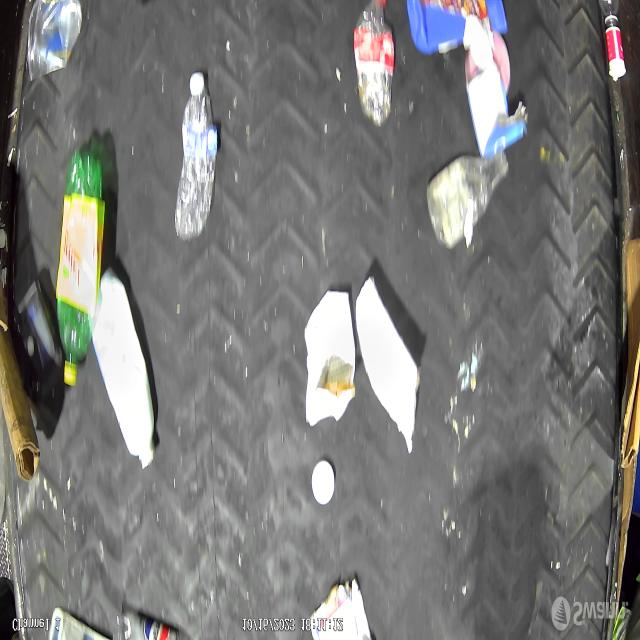plastic_bottle: (56, 154, 105, 388), (173, 68, 220, 241), (352, 0, 396, 129)
